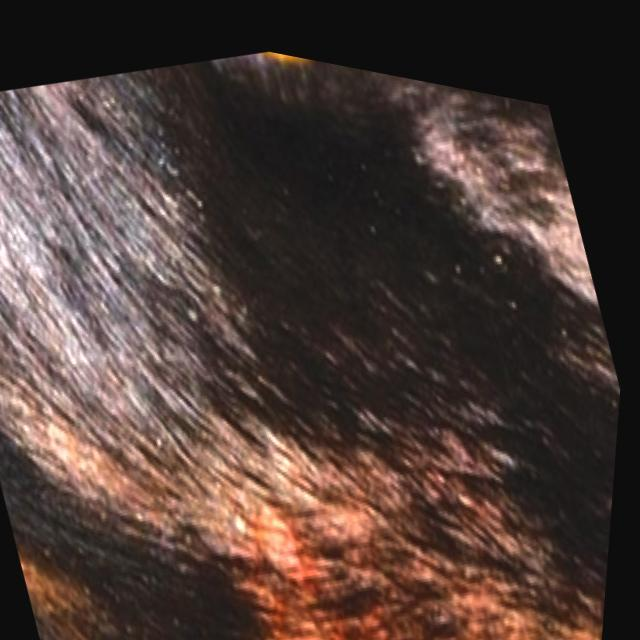qua man cho: (0, 90, 614, 640)
